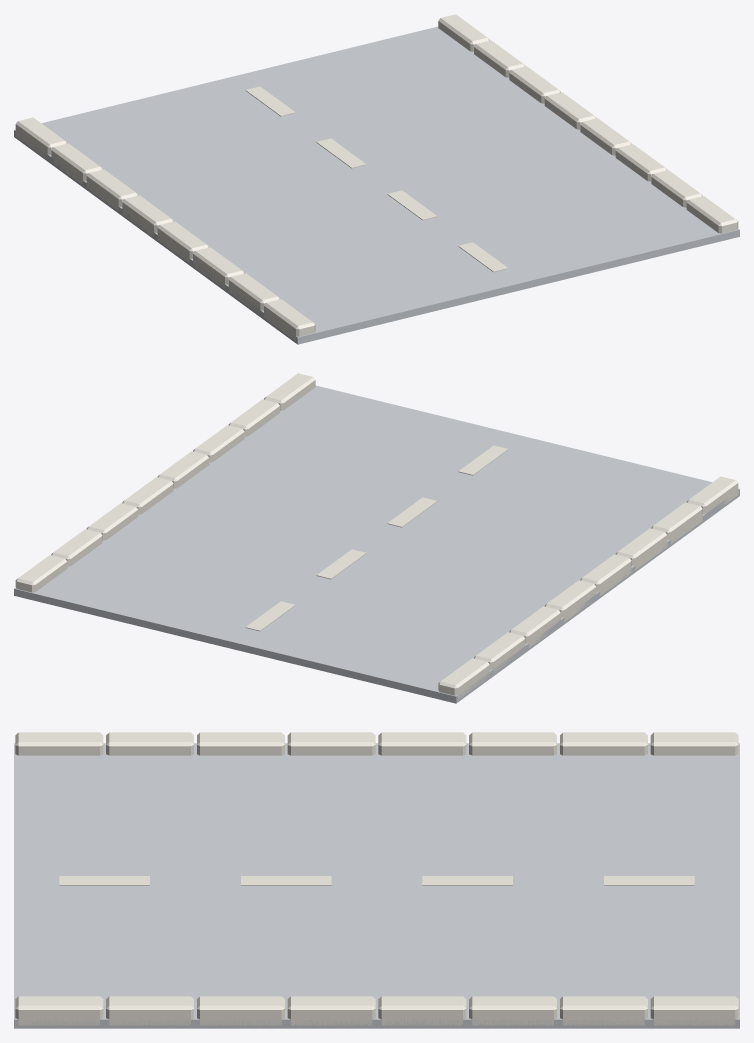
File: deco_path_road_4m.glb
3 renders of one model, top to bottom at view 1: azimuth 30°, elevation 25°; view 2: azimuth 150°, elevation 25°; view 3: azimuth 270°, elevation 25°, orthographic. The views are drawn at different scales.
Parts seen in each view (by area): view 1: deco_path_road_4m; view 2: deco_path_road_4m; view 3: deco_path_road_4m.
Boxes of the visible parts, x1,y1,x2,y2 form: deco_path_road_4m: [14, 14, 739, 344]; deco_path_road_4m: [14, 373, 739, 703]; deco_path_road_4m: [14, 732, 739, 1028].
Bounding box in the file's own units: 3.6 × 0.13 × 4.
Materials: 1 (1 with a texture image).
